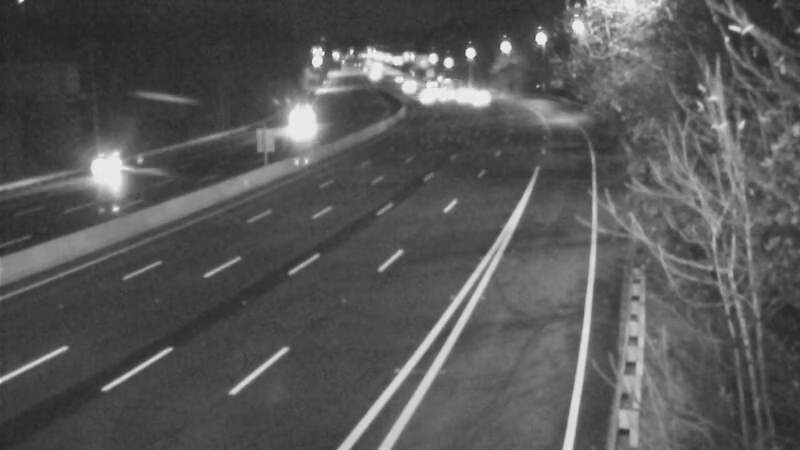vehicle: (70, 129, 150, 209), (384, 60, 434, 110), (420, 65, 470, 115), (452, 74, 502, 124), (431, 69, 481, 119), (402, 73, 452, 123), (281, 93, 331, 143)
